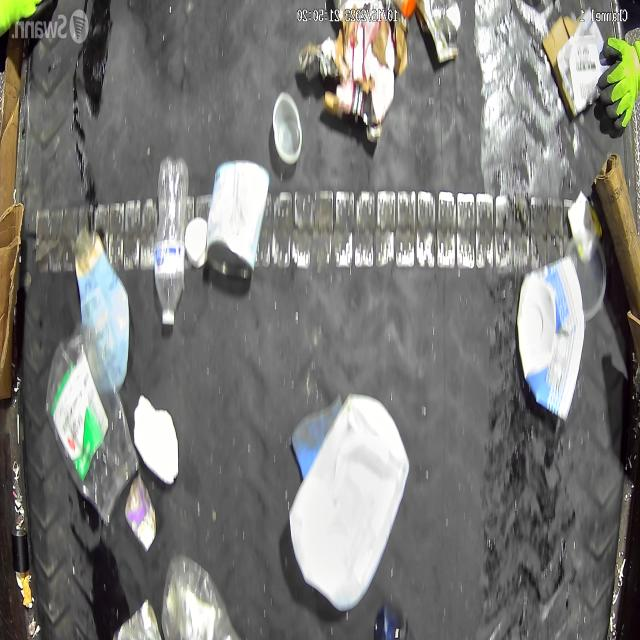can: (206, 154, 271, 284), (111, 598, 164, 640)
milk_jug: (285, 393, 413, 615)
plastic_bottle: (151, 155, 187, 332)
